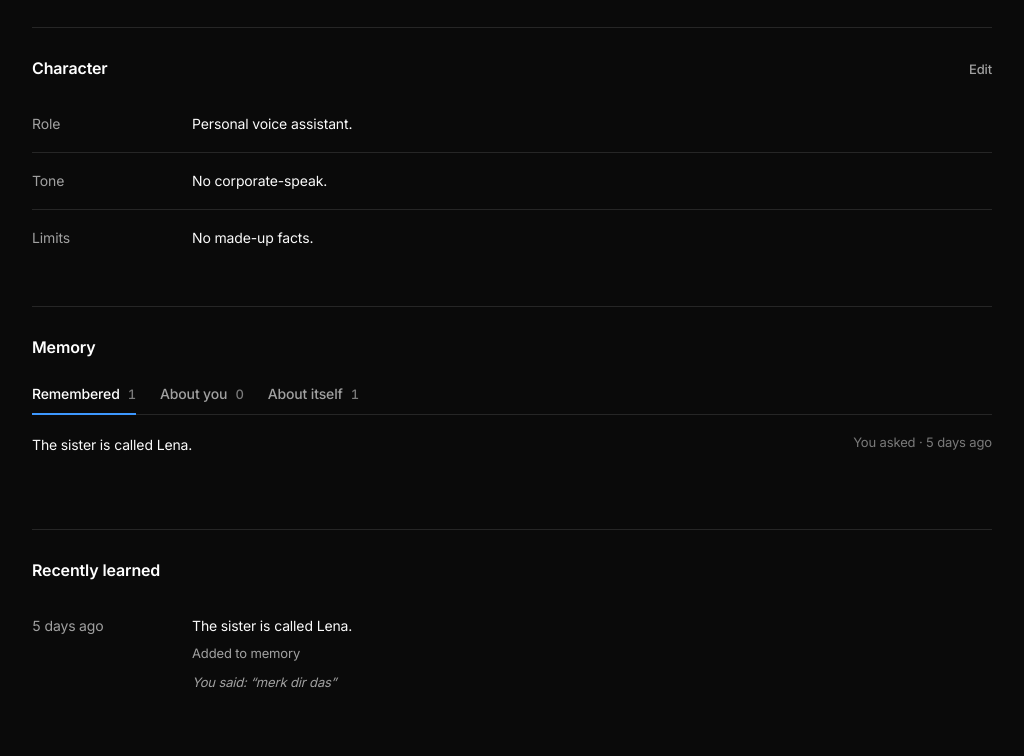
Test: AssistantProfileView › lists memories with who asked, and the ledger with the person's words
(page scrolled)
Expected: the text "The sister is called Lena." next to "You asked · 5 days ago" is shown, x1=32 y1=436 x2=192 y2=453
Expected: the text "You asked · 5 days ago" is shown, x1=853 y1=433 x2=992 y2=451
Click the button "About itself 1": {"x": 313, "y": 395} x1=268 y1=375 x2=359 y2=415
(page scrolled)
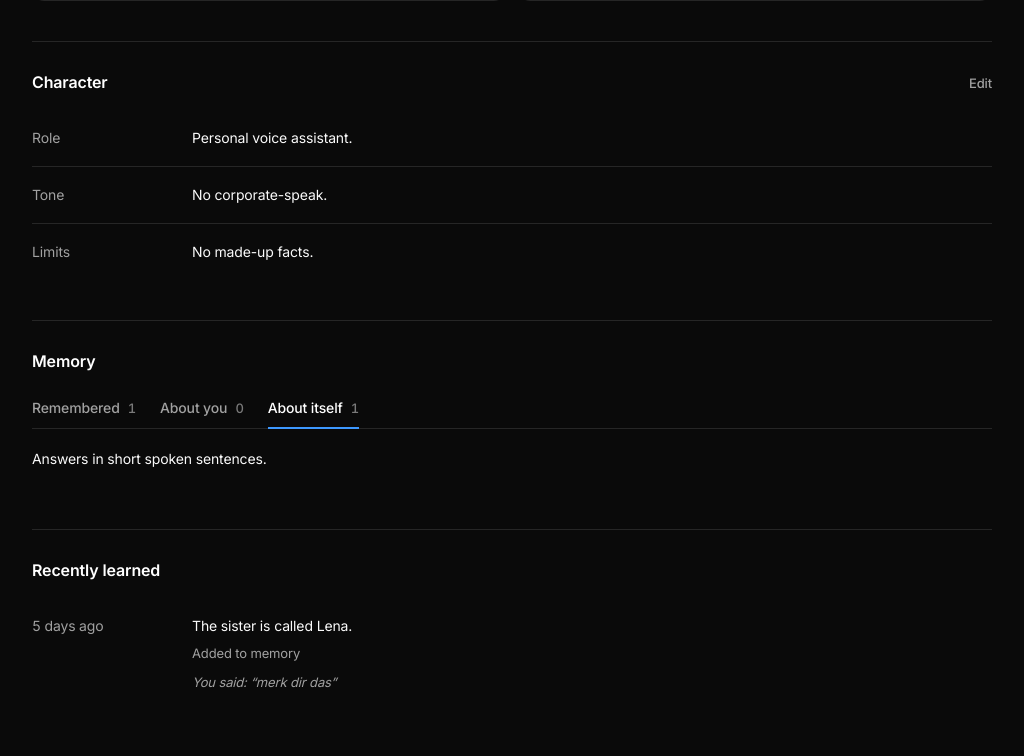
Expected: the text "Added to memory" is shown, x1=192 y1=645 x2=300 y2=661
Now the text "Answers in short spoken sentences." is shown, box x1=32 y1=450 x2=267 y2=467
